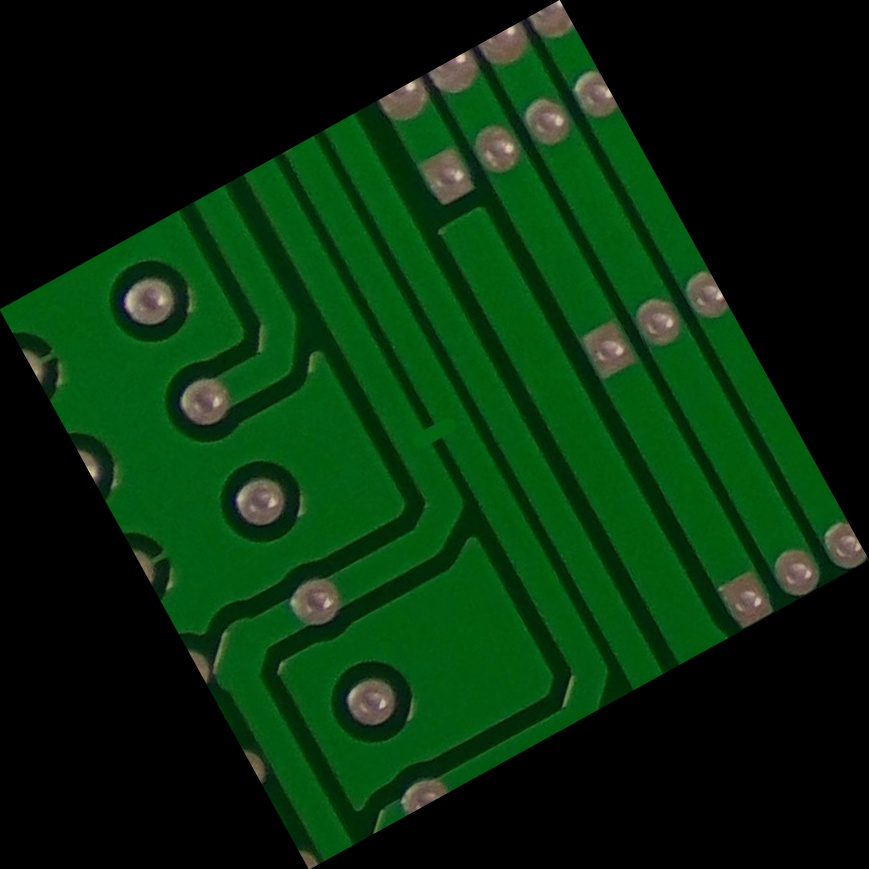short: (365, 364, 504, 506)
